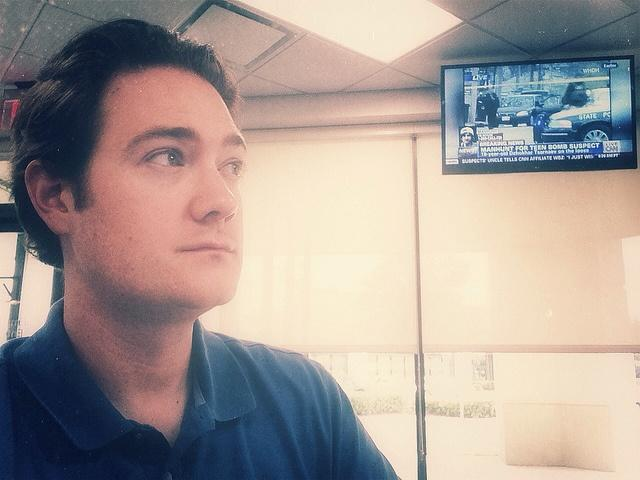AIO PC-Monitor-TV: (439, 53, 639, 175)
